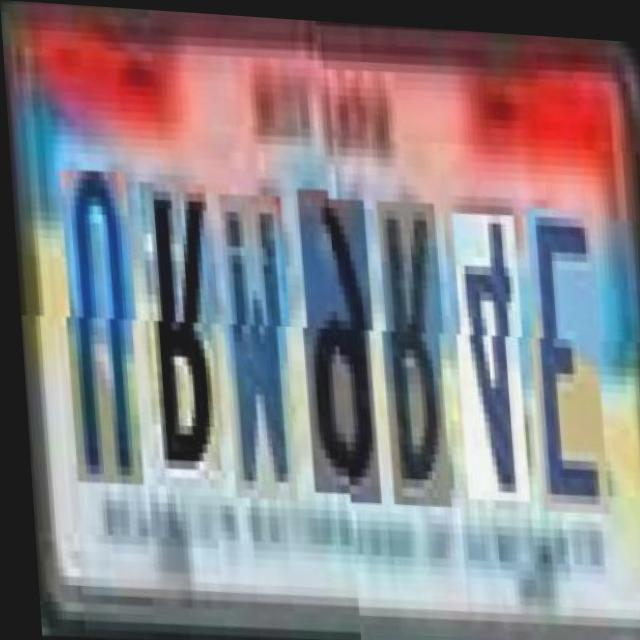4: (450, 200, 528, 490)
9: (295, 185, 379, 494)
e: (524, 193, 608, 502)
m: (217, 191, 296, 499)
r: (137, 179, 221, 488), (374, 188, 449, 495)
u: (57, 168, 142, 485)
